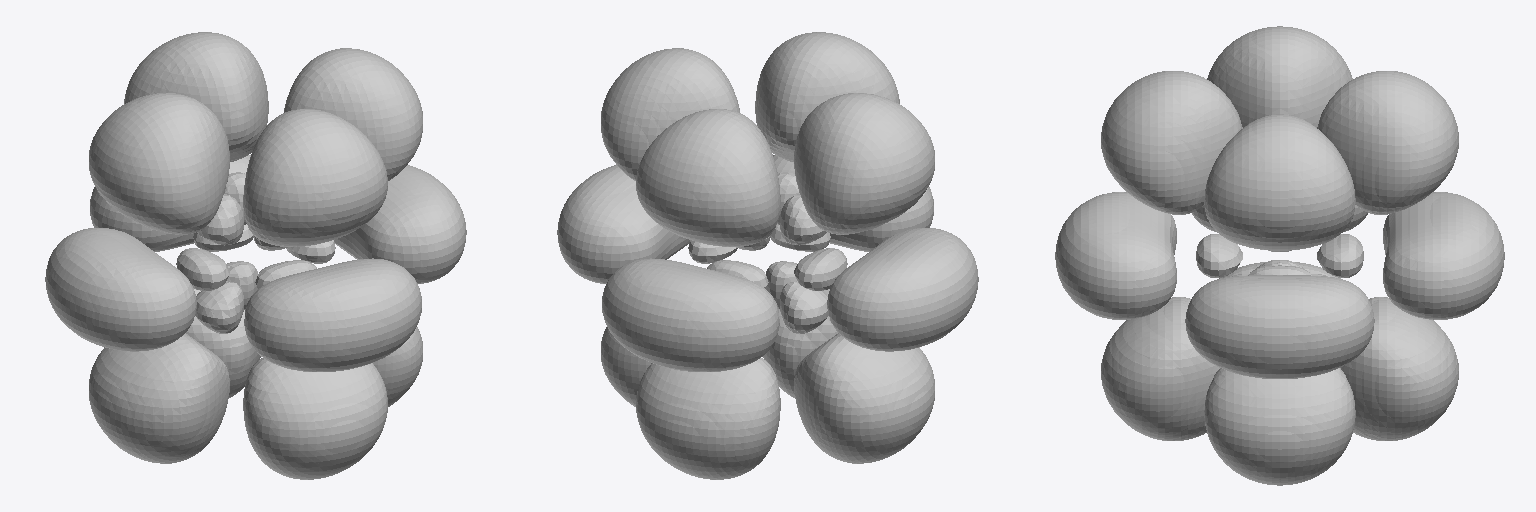
File: orb_n=6_ l=4 _m=2.obj
3 views of the same model, side by side, from view 1: azimuth 30°, elevation 25°; view 2: azimuth 150°, elevation 25°; view 3: azimuth 270°, elevation 25° (orthographic).
Visible parts, largest first — view 1: orb_n=6__l=4__m=2; view 2: orb_n=6__l=4__m=2; view 3: orb_n=6__l=4__m=2.
Part boxes in pixels (x1,y1,x2,y2): orb_n=6__l=4__m=2: (45, 32, 466, 479); orb_n=6__l=4__m=2: (557, 32, 978, 479); orb_n=6__l=4__m=2: (1055, 26, 1504, 485).
Bounding box in the file's own units: 141 × 124 × 141.